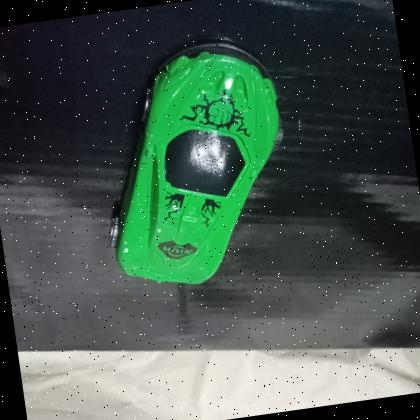Car: (112, 39, 281, 283)
